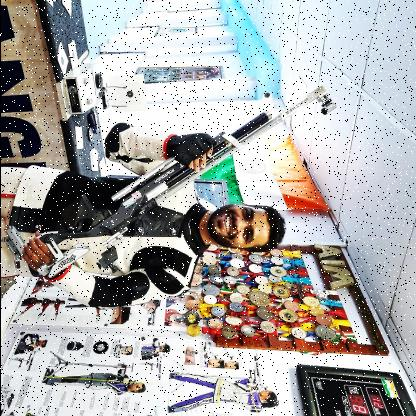rifle: (0, 84, 338, 280)
